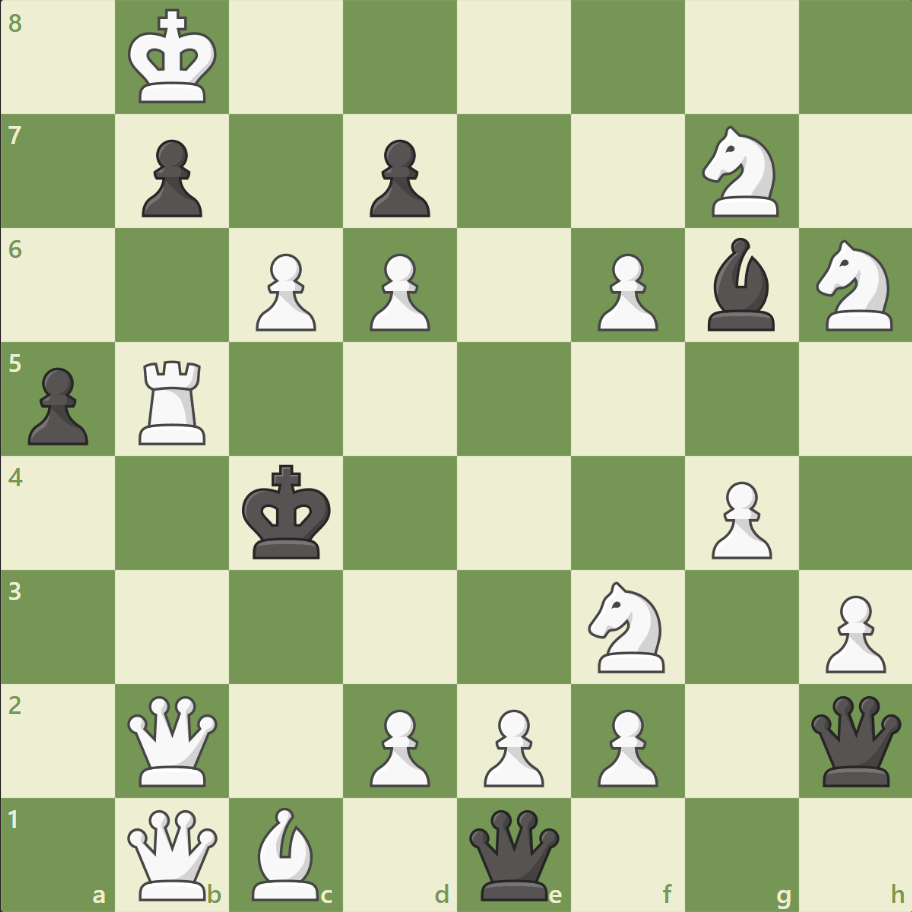B: (244, 801, 328, 904)
K: (124, 4, 224, 112)
N: (806, 234, 903, 337), (692, 121, 789, 223), (579, 575, 676, 677)
P: (247, 246, 322, 337), (701, 473, 776, 564), (474, 700, 549, 791), (361, 246, 435, 337), (588, 246, 662, 337), (815, 586, 889, 677), (361, 700, 435, 791), (588, 700, 662, 791)
Q: (124, 690, 223, 789), (124, 804, 223, 903)
R: (133, 352, 215, 449)
b: (698, 233, 782, 336)
k: (238, 458, 338, 566)
p: (133, 132, 208, 223), (20, 359, 95, 450), (361, 132, 435, 223)
q: (805, 690, 904, 789), (464, 804, 563, 903)
